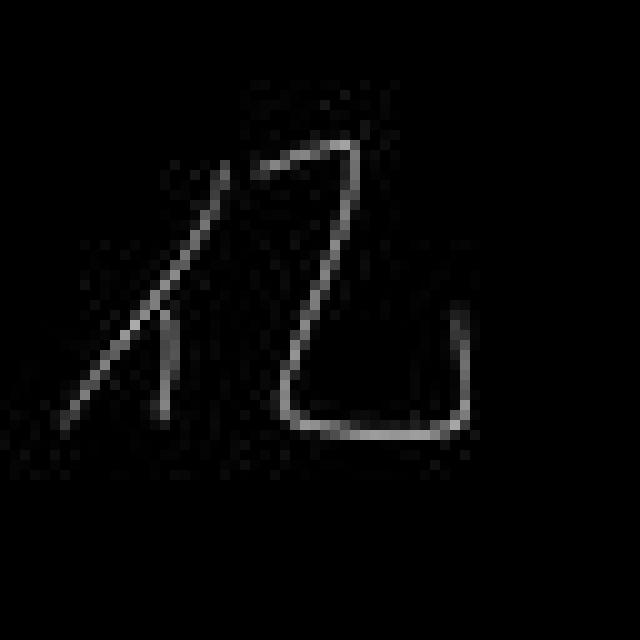100000 -a hundred thousand-: (51, 118, 487, 454)
